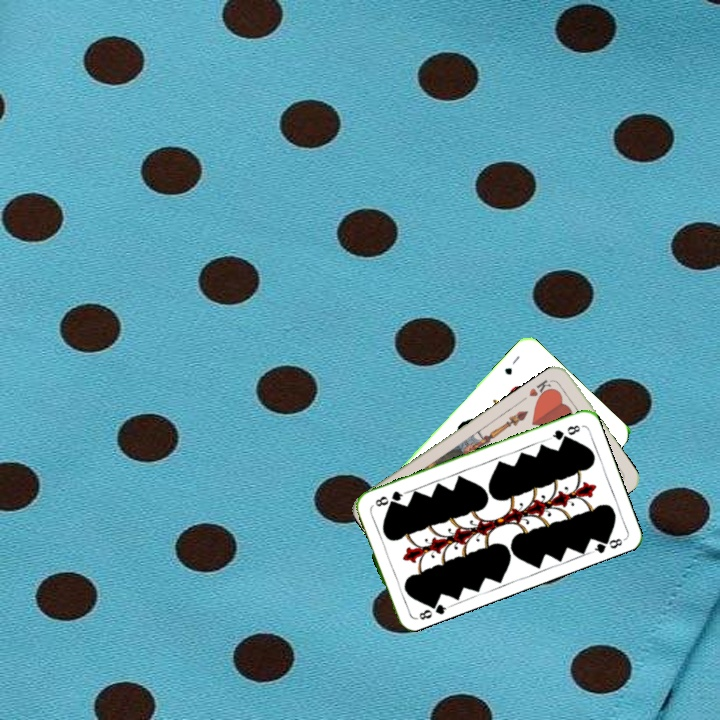G8: (411, 596, 451, 623), (545, 421, 583, 443)
GU: (500, 351, 523, 377)
HK: (525, 375, 557, 403)
